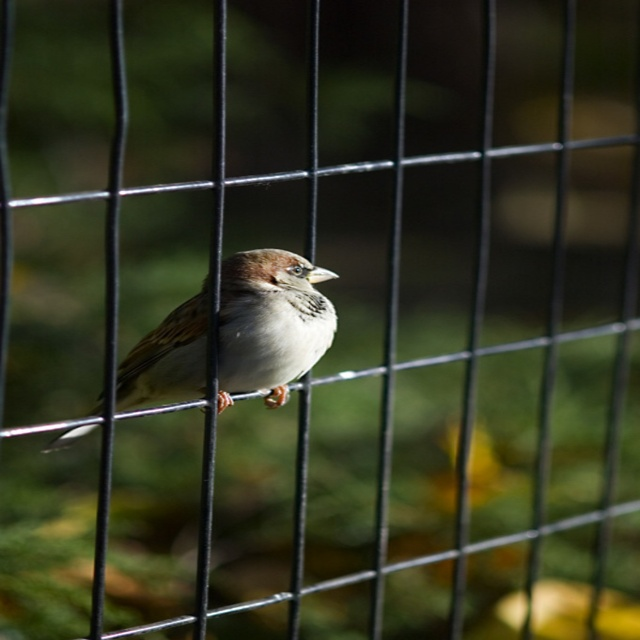Sparrow: (41, 248, 340, 453)
